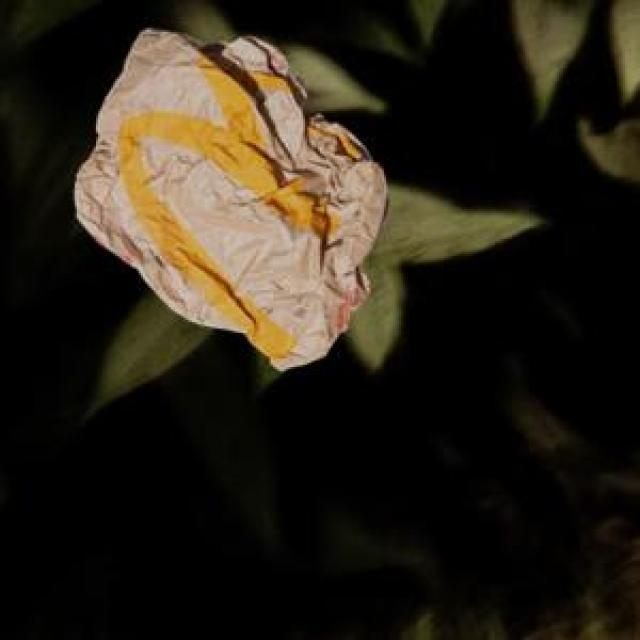paper: (70, 26, 386, 367)
